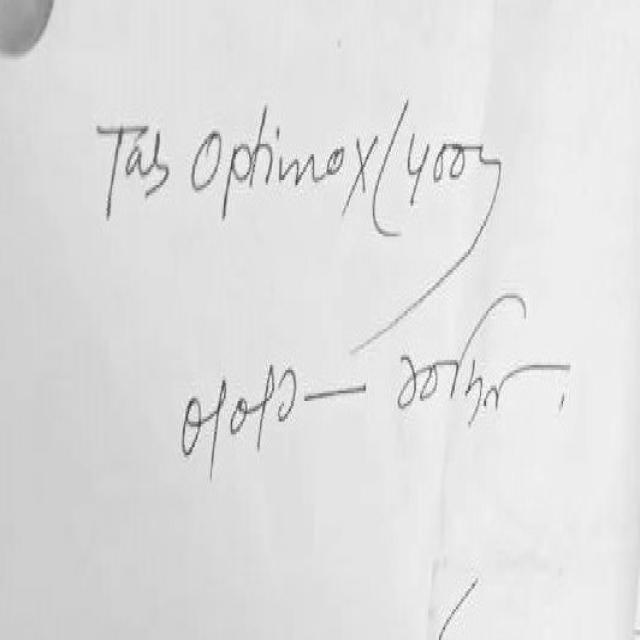medicine: (184, 94, 378, 218)
